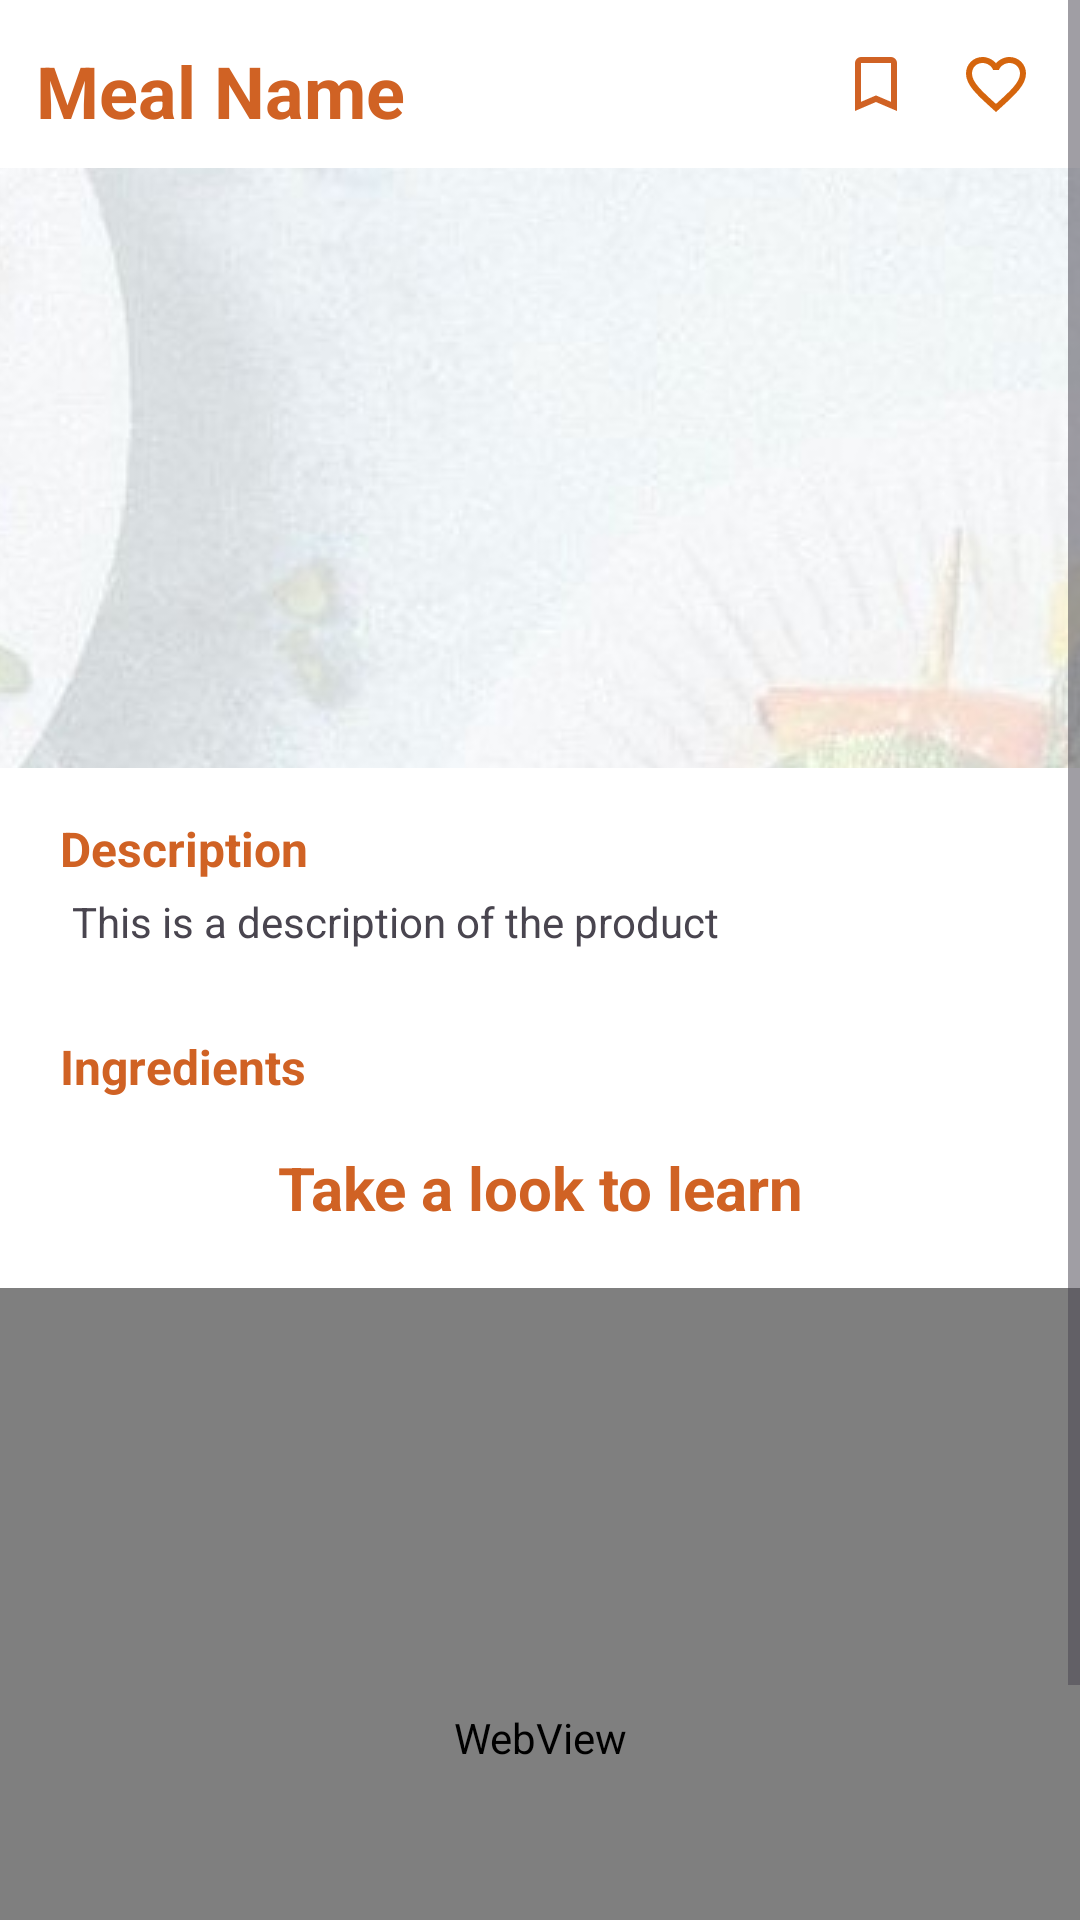

Named icons in this screenshot (1080*1920) and their bounding boxes, box=[x1, y1, x2, y2]:
save: box=[855, 57, 897, 111]
